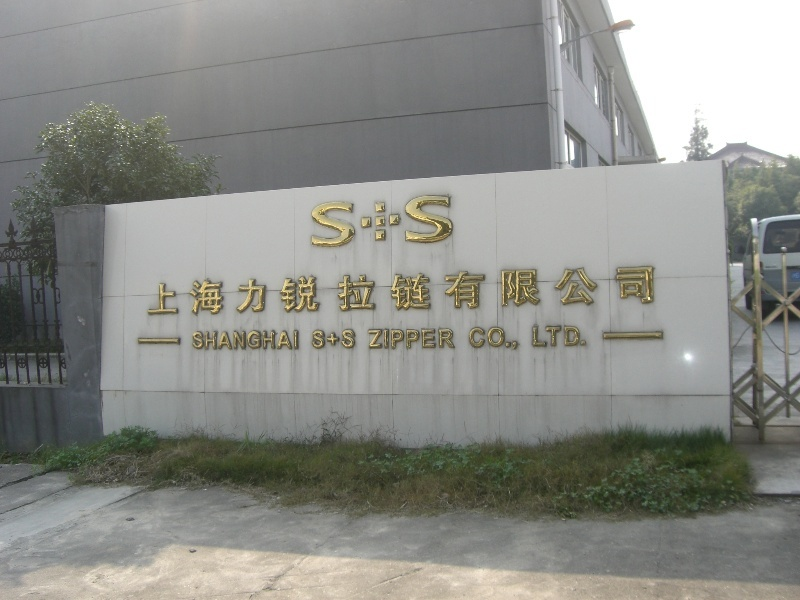text: (417, 192, 432, 249), (433, 192, 448, 249), (145, 263, 160, 318), (161, 263, 176, 318), (177, 263, 192, 318), (193, 263, 208, 318), (209, 263, 224, 318), (225, 263, 240, 318), (241, 263, 256, 318), (257, 263, 272, 318), (273, 263, 288, 318), (289, 263, 304, 318), (305, 263, 320, 318), (321, 263, 336, 318), (337, 263, 352, 318), (353, 263, 368, 318), (369, 263, 384, 318), (385, 263, 400, 318), (401, 263, 416, 318), (417, 263, 432, 318), (433, 263, 448, 318), (449, 263, 464, 318), (465, 263, 480, 318), (481, 263, 496, 318), (497, 263, 512, 318), (513, 263, 528, 318), (529, 263, 544, 318), (545, 263, 560, 318), (561, 263, 576, 318), (577, 263, 592, 318), (593, 263, 608, 318), (609, 263, 624, 318), (625, 263, 640, 318), (641, 263, 656, 318), (321, 198, 336, 252), (337, 198, 352, 252), (403, 192, 416, 249), (308, 198, 320, 252), (449, 192, 458, 249), (481, 326, 496, 351), (497, 326, 512, 351), (545, 324, 560, 349), (561, 324, 576, 349), (193, 329, 208, 353), (209, 329, 224, 353), (225, 329, 240, 353), (241, 329, 256, 353), (257, 329, 272, 353), (273, 329, 288, 353), (321, 329, 336, 351), (337, 329, 352, 351), (369, 328, 384, 350), (385, 328, 400, 350), (401, 328, 416, 350), (417, 328, 432, 350), (433, 328, 448, 350), (467, 326, 480, 351), (531, 324, 544, 349), (289, 329, 302, 353), (353, 198, 358, 252), (577, 324, 587, 349), (311, 329, 320, 351), (449, 328, 457, 350), (513, 326, 520, 351), (657, 263, 660, 318), (353, 329, 358, 351)
